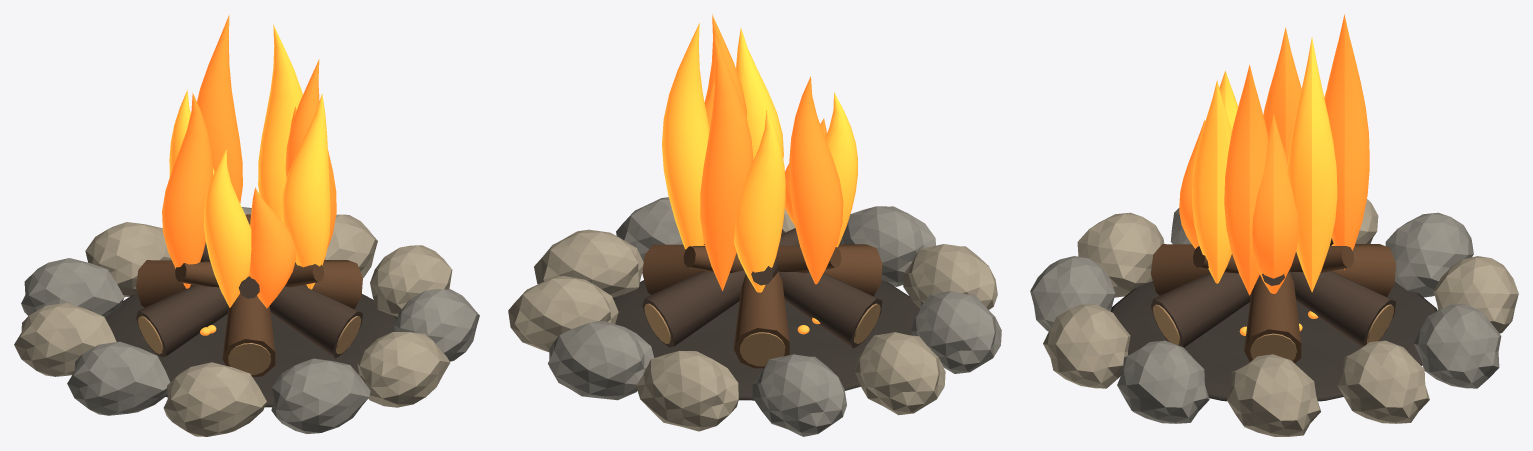
File: campfire.glb
3 views of the same model, side by side, from view 1: azimuth 30°, elevation 25°; view 2: azimuth 150°, elevation 25°; view 3: azimuth 270°, elevation 25° (orthographic). The views are drawn at different scales.
Visible parts, largest first — view 1: campfire-stone, campfire-flame, campfire-bark, campfire-wood; view 2: campfire-stone, campfire-flame, campfire-bark, campfire-wood; view 3: campfire-stone, campfire-flame, campfire-bark, campfire-wood.
Boxes of the visible parts, x1,y1,x2,y2 form: campfire-stone: [14, 207, 479, 436]; campfire-flame: [162, 15, 336, 335]; campfire-bark: [136, 214, 362, 376]; campfire-wood: [138, 316, 361, 375]; campfire-stone: [508, 197, 1001, 436]; campfire-flame: [662, 14, 857, 334]; campfire-bark: [642, 228, 882, 368]; campfire-wood: [644, 303, 880, 366]; campfire-stone: [1030, 199, 1518, 436]; campfire-flame: [1179, 14, 1369, 335]; campfire-bark: [1150, 238, 1395, 363]; campfire-wood: [1153, 304, 1393, 360].
Size of the model in its own units: 2.06 by 1.52 by 1.99.
